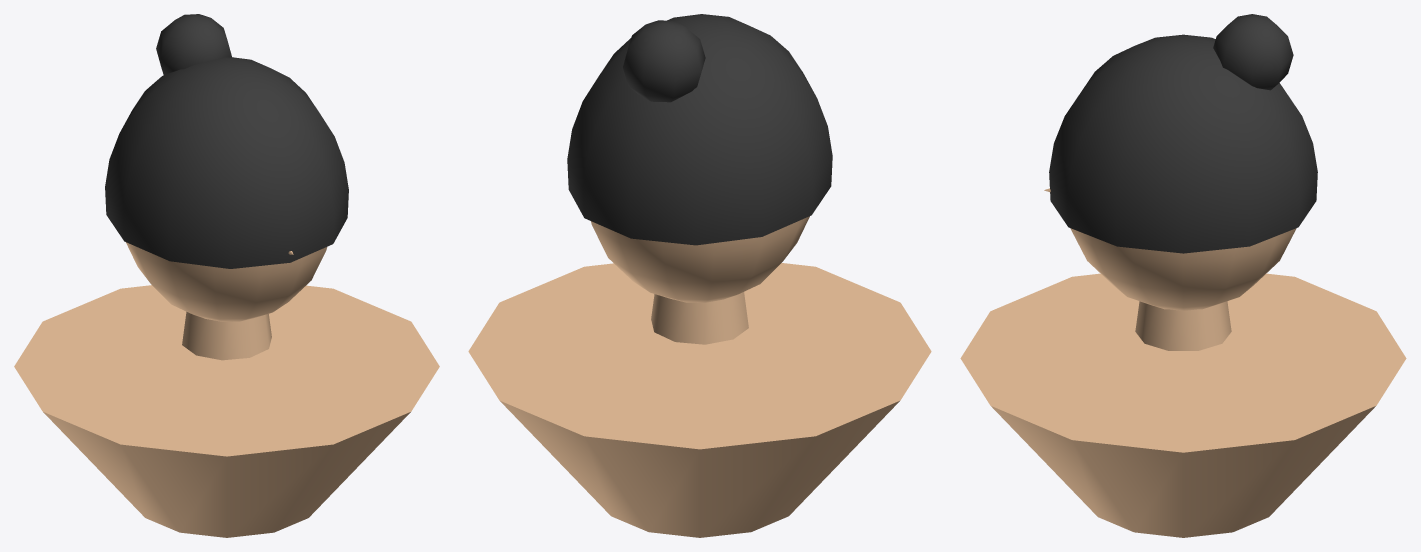
Rendered from portrait04t_003.glb.
3 renders of one model, left to right at view 1: azimuth 30°, elevation 25°; view 2: azimuth 150°, elevation 25°; view 3: azimuth 270°, elevation 25°, orthographic. The views are drawn at different scales.
Size of the model in its own units: 1.94 by 2.3 by 1.94.
